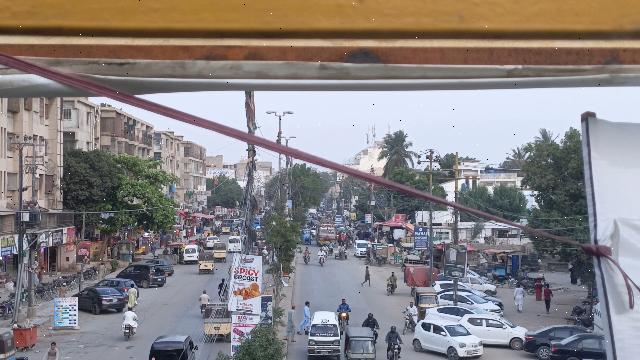Bike: (402, 313, 418, 336), (120, 322, 135, 341), (337, 310, 351, 328), (388, 341, 402, 359), (384, 280, 397, 296), (365, 326, 379, 340), (301, 252, 313, 266), (198, 301, 209, 316), (217, 291, 229, 304), (316, 254, 327, 266)
Car: (413, 318, 484, 360), (459, 310, 528, 351), (520, 321, 588, 360), (549, 333, 612, 360), (70, 285, 125, 314), (439, 291, 503, 315), (116, 263, 167, 289), (424, 304, 489, 324), (96, 277, 140, 300)
Cart: (333, 243, 350, 260)
Person: (284, 301, 297, 344), (298, 298, 311, 334), (383, 323, 404, 345), (40, 339, 60, 360), (542, 281, 554, 315), (126, 283, 139, 312), (514, 283, 525, 314), (362, 311, 379, 328), (405, 299, 418, 320), (336, 297, 353, 313), (362, 264, 372, 288), (387, 269, 399, 288), (216, 277, 228, 293), (199, 288, 210, 305), (315, 246, 327, 257), (302, 245, 312, 256)
Rickshaw: (201, 301, 233, 341), (341, 325, 377, 360), (413, 285, 439, 319), (197, 251, 215, 275), (211, 241, 228, 264)
Van: (306, 311, 342, 360), (148, 333, 198, 360), (182, 245, 200, 263)
